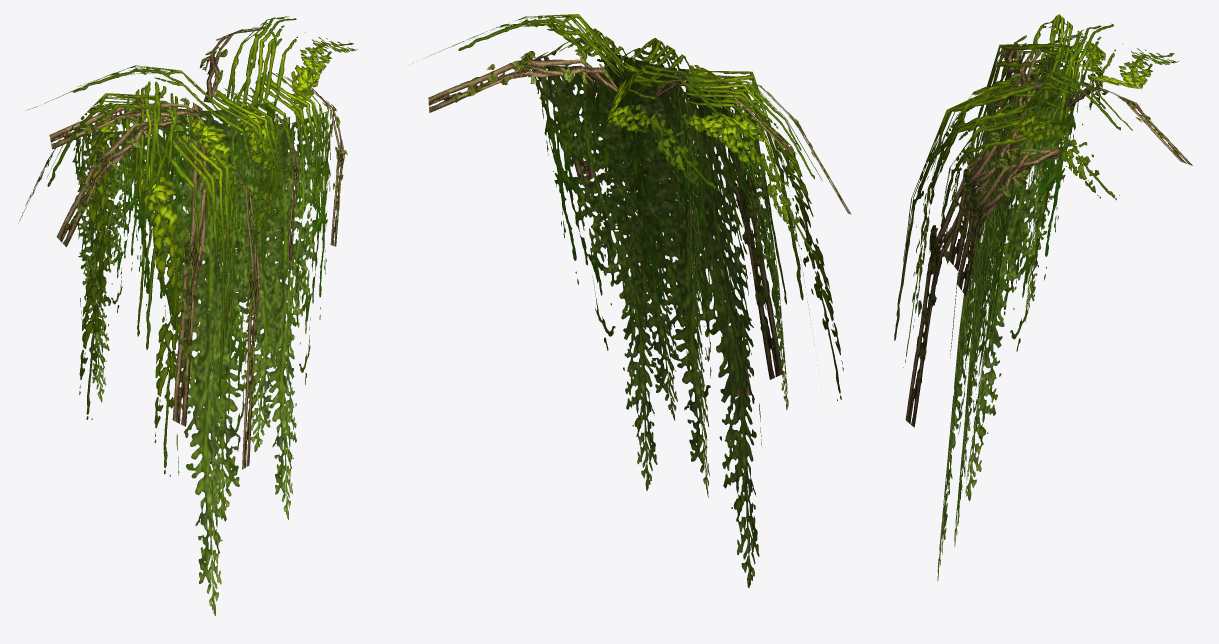
Rendered from S_Plant_Green011.FBX.
3 views of the same model, side by side, from view 1: azimuth 30°, elevation 25°; view 2: azimuth 150°, elevation 25°; view 3: azimuth 270°, elevation 25° (orthographic). The views are drawn at different scales.
Visible parts, largest first — view 1: S_Plant_Green011; view 2: S_Plant_Green011; view 3: S_Plant_Green011.
Part boxes in pixels (x1,y1,x2,y2): S_Plant_Green011: (18,16,357,615); S_Plant_Green011: (413,14,851,587); S_Plant_Green011: (894,14,1192,581).
Bounding box in the file's own units: 154 × 110 × 217.
